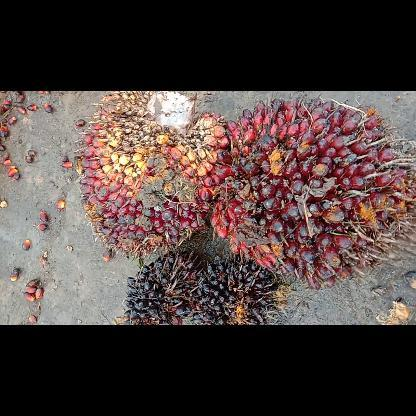TBS abnormal: (193, 252, 293, 324), (122, 246, 210, 324)
TBS masak: (200, 96, 414, 290), (73, 92, 229, 262)
